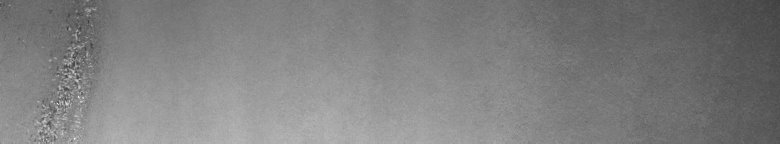hc: (26, 4, 103, 136)
